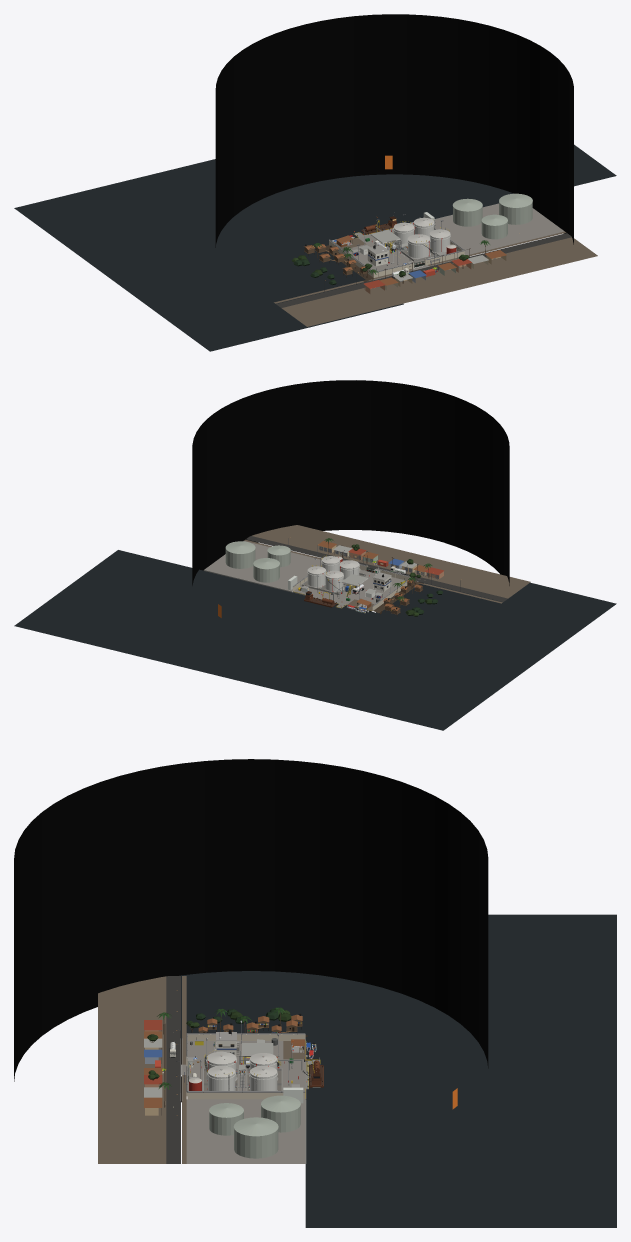
The model's file is tankfarm_n.glb.
The picture shows the model from 3 angles, top to bottom: view 1: azimuth 30°, elevation 25°; view 2: azimuth 150°, elevation 25°; view 3: azimuth 270°, elevation 25°; orthographic projection. The views are drawn at different scales.
Visible parts, largest first — view 1: Pano, Water, Env; view 2: Water, Pano, Env; view 3: Pano, Water, Env.
Boxes of the visible parts, box(x1,y1,x2,y2) form: Pano: box(215, 14, 573, 247); Water: box(14, 144, 616, 351); Env: box(274, 193, 597, 326); Water: box(14, 550, 616, 730); Pano: box(192, 380, 509, 585); Env: box(203, 525, 530, 616); Pano: box(14, 759, 488, 1081); Water: box(179, 914, 616, 1227); Env: box(98, 976, 323, 1163).
Bounding box in the file's own units: 300 × 100 × 244.
